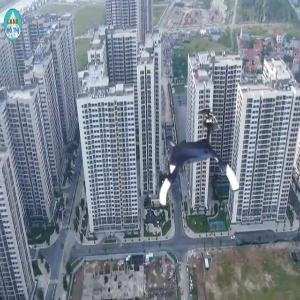drone: (146, 122, 236, 212)
